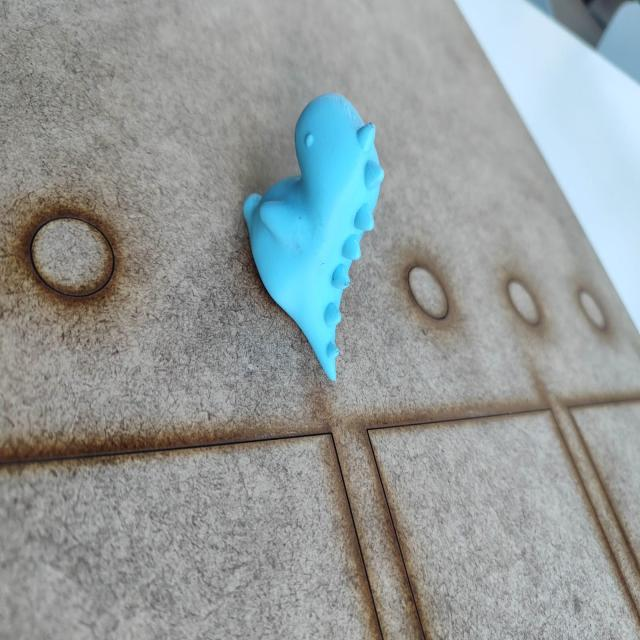DINO: (230, 66, 386, 384)
